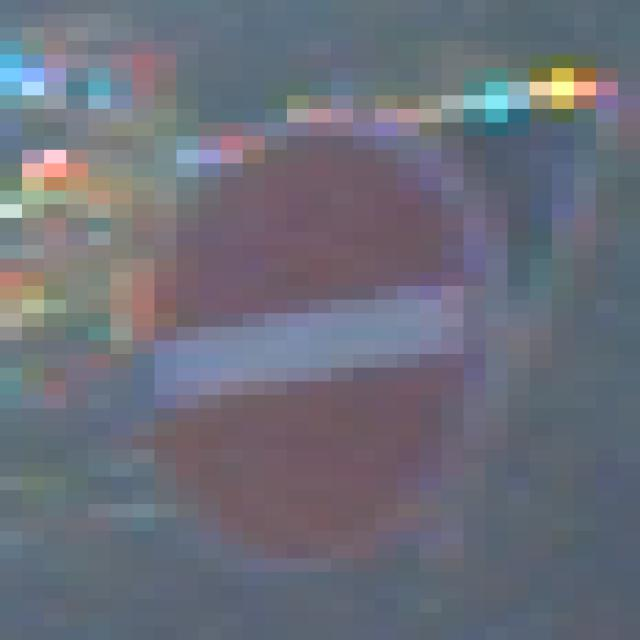No Entry: (111, 83, 531, 573)
